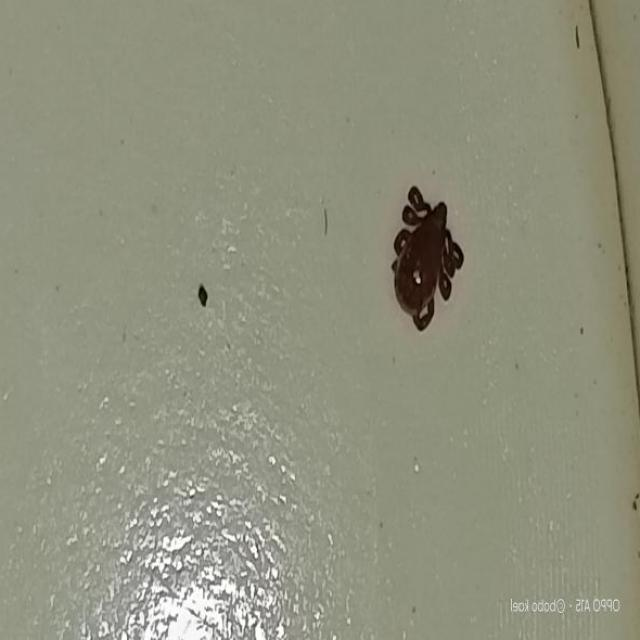Rhipicephalus Sanguineus-M: (391, 186, 464, 331)
